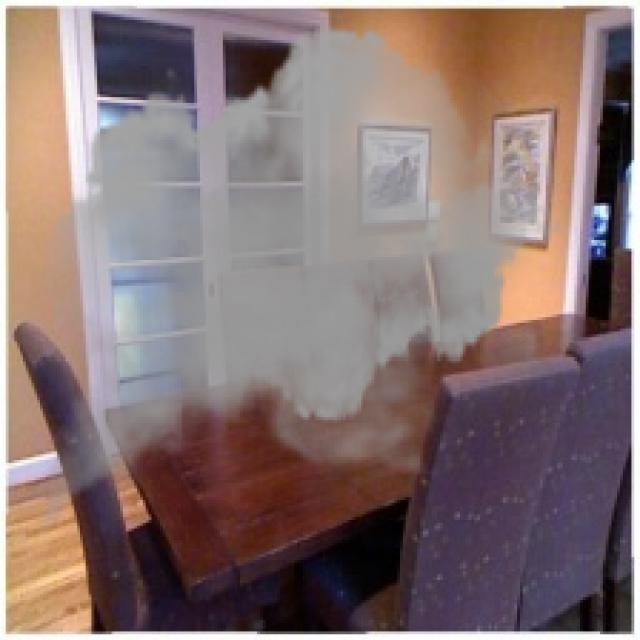smoke: (23, 11, 566, 563)
